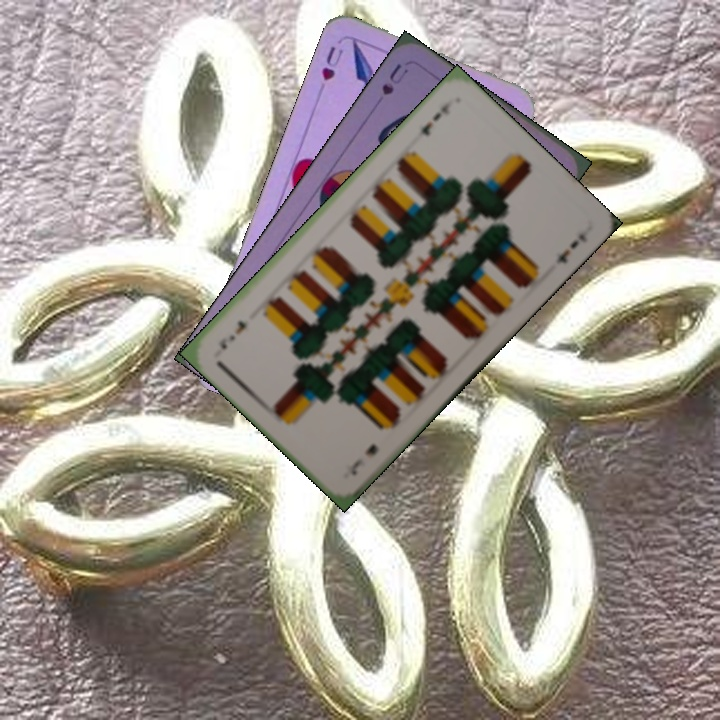E7: (416, 97, 456, 139), (346, 440, 381, 479)
HU: (317, 42, 346, 83)
SU: (377, 59, 411, 98)
